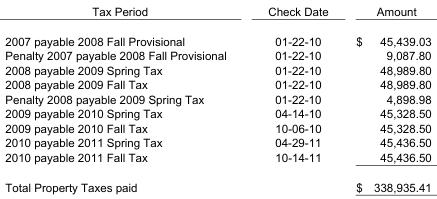table: (4, 4, 430, 193)
table column: (4, 4, 246, 193), (246, 4, 341, 193), (341, 4, 430, 193)
table column header: (4, 4, 430, 25)
table row: (4, 25, 430, 47), (4, 149, 430, 171), (4, 171, 430, 193), (4, 4, 430, 25), (4, 47, 430, 62), (4, 76, 430, 91), (4, 91, 430, 106), (4, 120, 430, 135), (4, 62, 430, 76), (4, 106, 430, 120), (4, 135, 430, 149)
